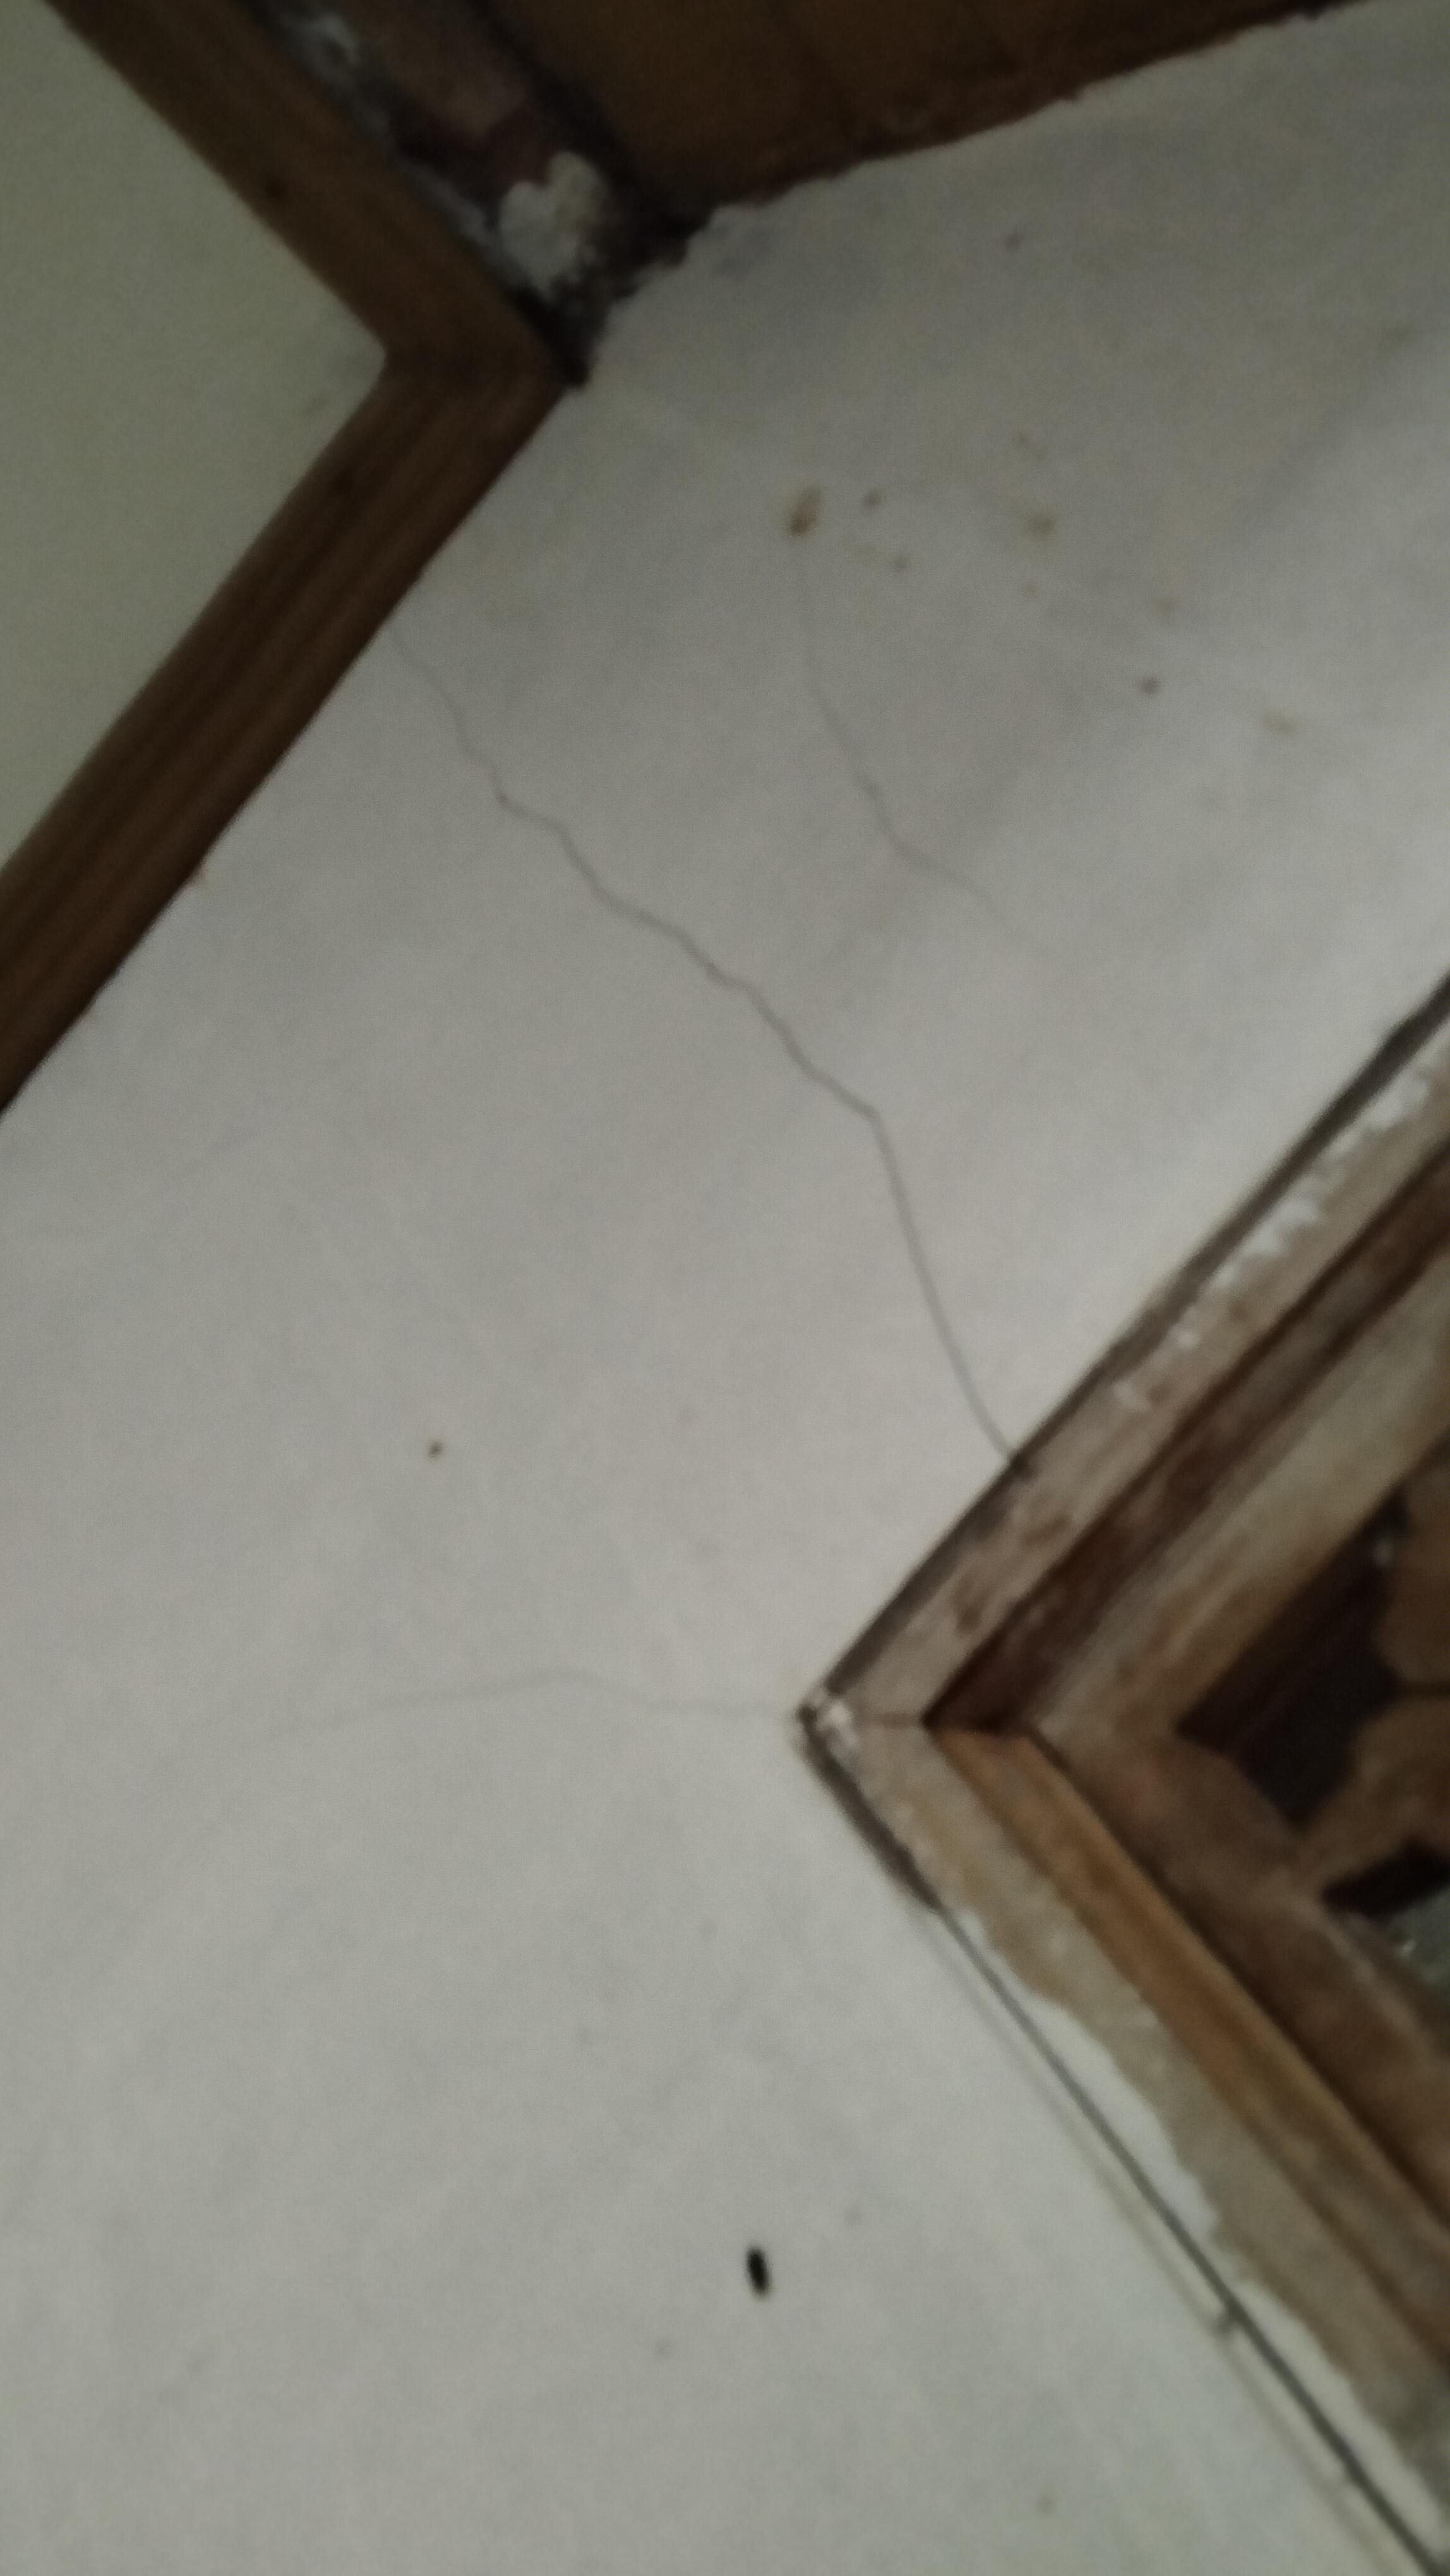Crack: (382, 612, 1020, 1474)
